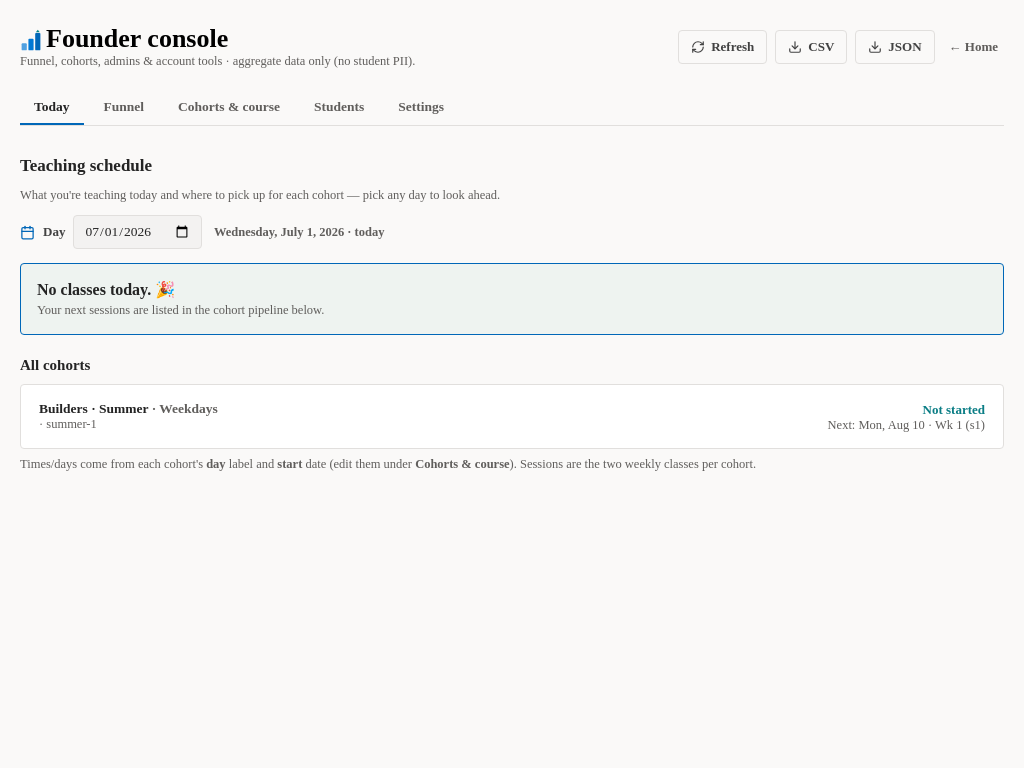
Test: FounderDashboard (account-gated) › the funnel Segment selector includes a founder-created catalog season (Summer 2026)
The width and height of the screenshot is (1024, 768).
Click the button "Funnel": (124, 106) [104, 99, 144, 114]
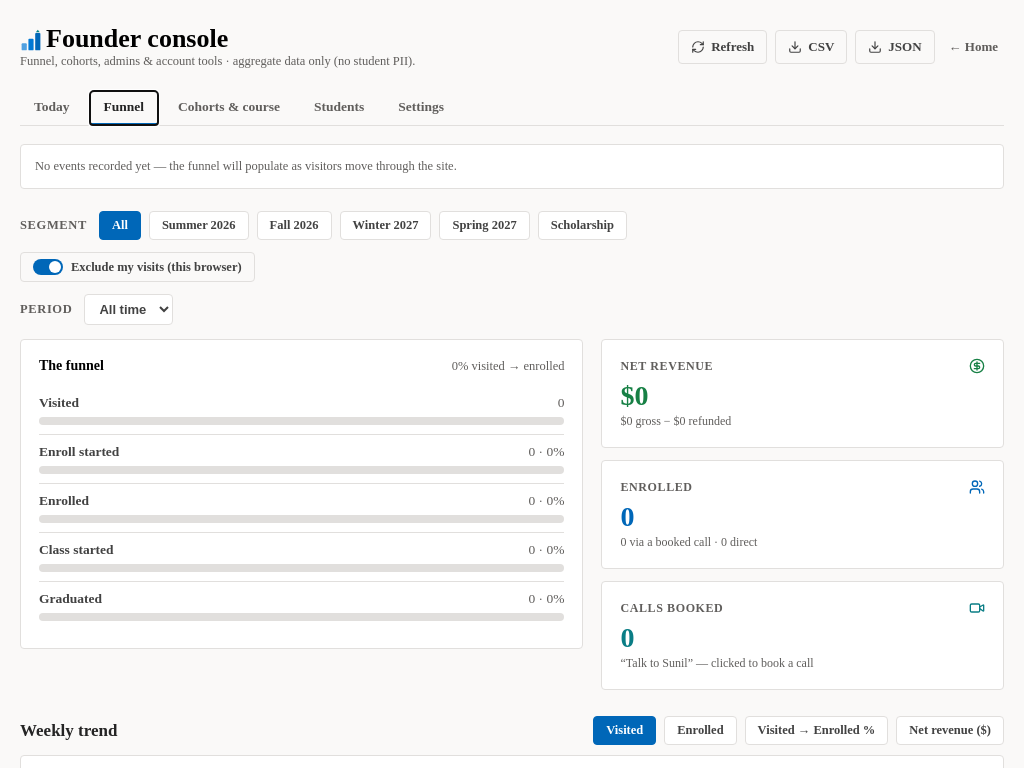
Result: the button "Summer 2026" is shown at [149, 211, 249, 240]
